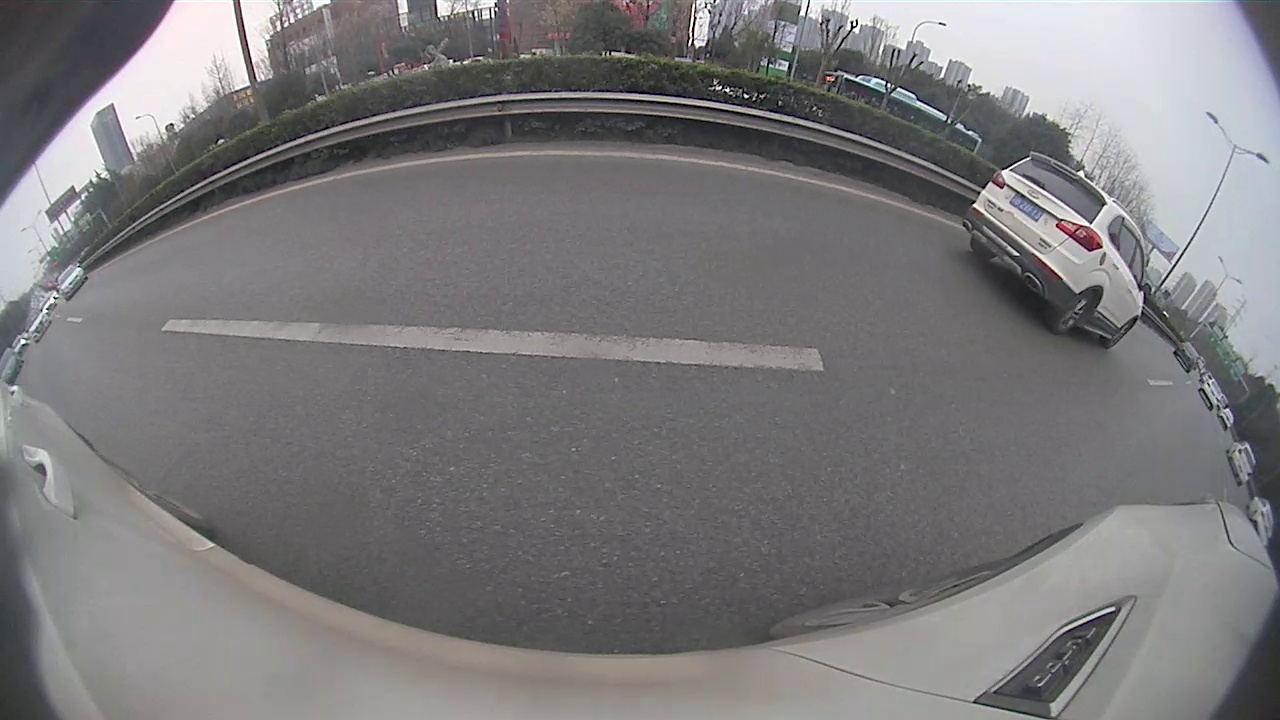car: (962, 153, 1152, 350)
front: (1099, 320, 1137, 350)
rear: (1045, 289, 1099, 335)
